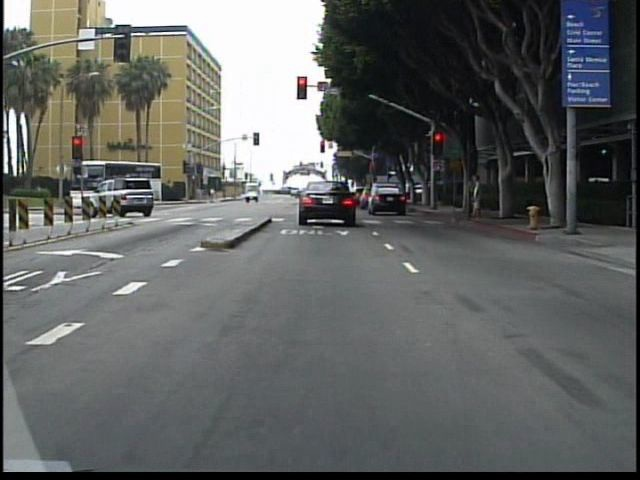person: (467, 169, 487, 220)
